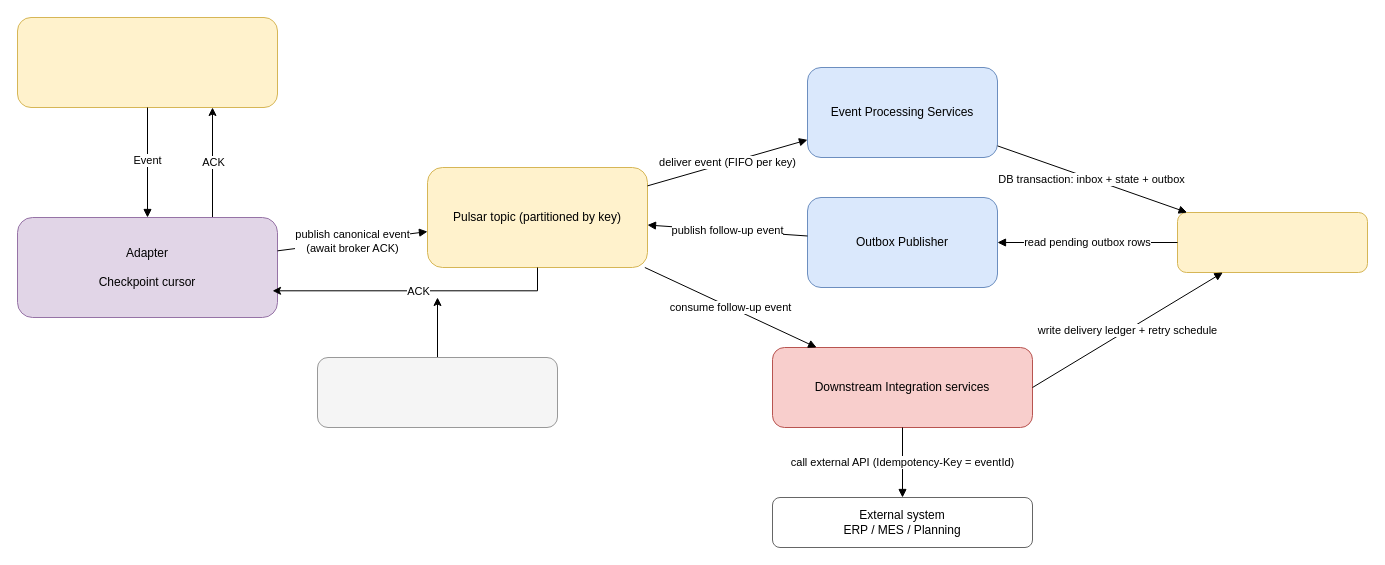
This 1385x565 diagram has some shape labels left out. The centre of each missing label's shape, as x and y in pixels:
"ACK policy: acknowledge ARW only after - Pulsar broker ACK" belongs at pixel 437 392.
"ARW emits event (OPC UA / MQTT / API) Retention enabled" belongs at pixel 147 62.
"Persistence DB" belongs at pixel 1272 242.
